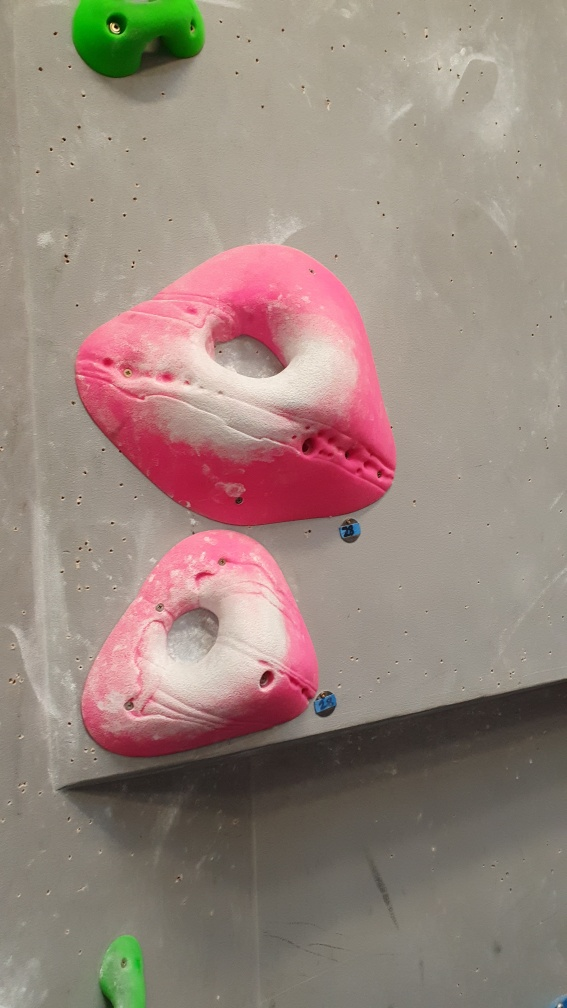Hand Start: (309, 687, 342, 723), (337, 518, 366, 546)
Pocket: (69, 238, 401, 530), (83, 524, 323, 761)
